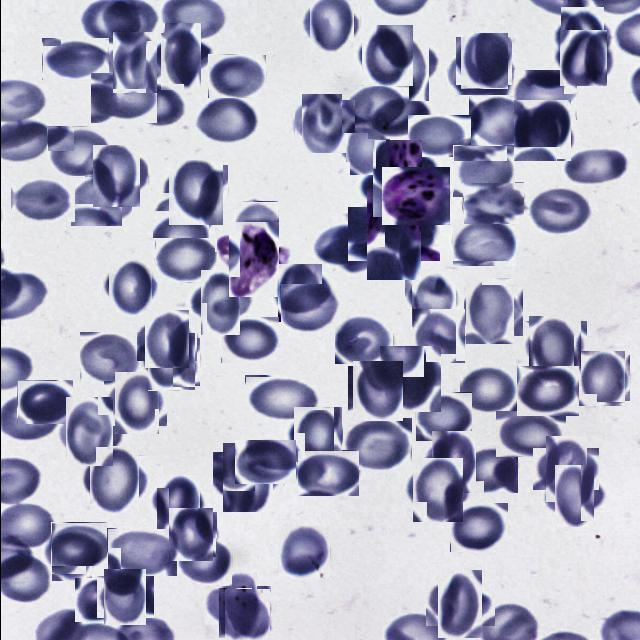red blood cell: (356, 198, 429, 270), (378, 347, 442, 411), (364, 147, 428, 210), (311, 222, 382, 274), (164, 162, 224, 222), (217, 447, 277, 507), (512, 100, 572, 160), (342, 418, 411, 470), (84, 450, 142, 510), (244, 376, 319, 422), (59, 403, 118, 461), (408, 462, 466, 520), (525, 318, 583, 376), (376, 38, 434, 96), (106, 528, 176, 576), (460, 283, 518, 340), (90, 73, 156, 123), (80, 332, 142, 385), (512, 69, 576, 120), (452, 145, 514, 197), (495, 411, 565, 457), (70, 176, 134, 226), (46, 126, 110, 176), (341, 86, 408, 133), (432, 576, 488, 632), (359, 28, 415, 84), (516, 366, 578, 416), (451, 218, 515, 266), (194, 98, 258, 146), (459, 365, 519, 416), (152, 192, 218, 238), (88, 148, 143, 203), (468, 96, 526, 148), (350, 364, 404, 419), (447, 51, 514, 95), (538, 442, 592, 496), (152, 30, 206, 84), (109, 376, 162, 431), (154, 235, 216, 282), (449, 502, 507, 552), (560, 146, 629, 188), (277, 525, 330, 579), (426, 436, 480, 489), (411, 310, 465, 363), (296, 450, 358, 496), (367, 96, 433, 139), (528, 188, 588, 235), (10, 178, 74, 222), (41, 38, 108, 80), (298, 96, 350, 150), (210, 580, 264, 632), (554, 12, 608, 64), (460, 444, 517, 493), (414, 392, 471, 441), (334, 316, 392, 364), (127, 83, 186, 130), (193, 276, 246, 328), (144, 336, 197, 388), (220, 316, 278, 363), (274, 266, 326, 318), (291, 408, 343, 460), (547, 470, 599, 522), (556, 32, 608, 84), (108, 36, 160, 88), (458, 35, 510, 87), (234, 440, 295, 484), (408, 272, 459, 324), (141, 313, 192, 365), (407, 115, 470, 157), (462, 182, 524, 224), (178, 538, 232, 586), (280, 284, 336, 330), (207, 54, 265, 98), (576, 352, 626, 403), (304, 0, 356, 49), (46, 527, 96, 577), (100, 572, 150, 622), (16, 380, 72, 424), (50, 522, 106, 566), (342, 124, 392, 173), (165, 510, 214, 559), (104, 264, 154, 312), (222, 590, 270, 640), (153, 478, 201, 526), (74, 578, 124, 622), (235, 202, 278, 244)
trophozoite: (222, 227, 284, 291), (381, 167, 449, 225)
